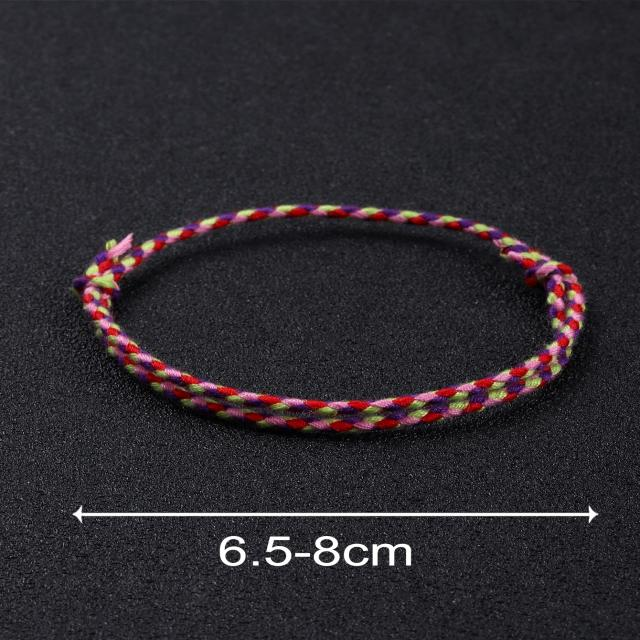bracelet: (54, 154, 640, 480)
